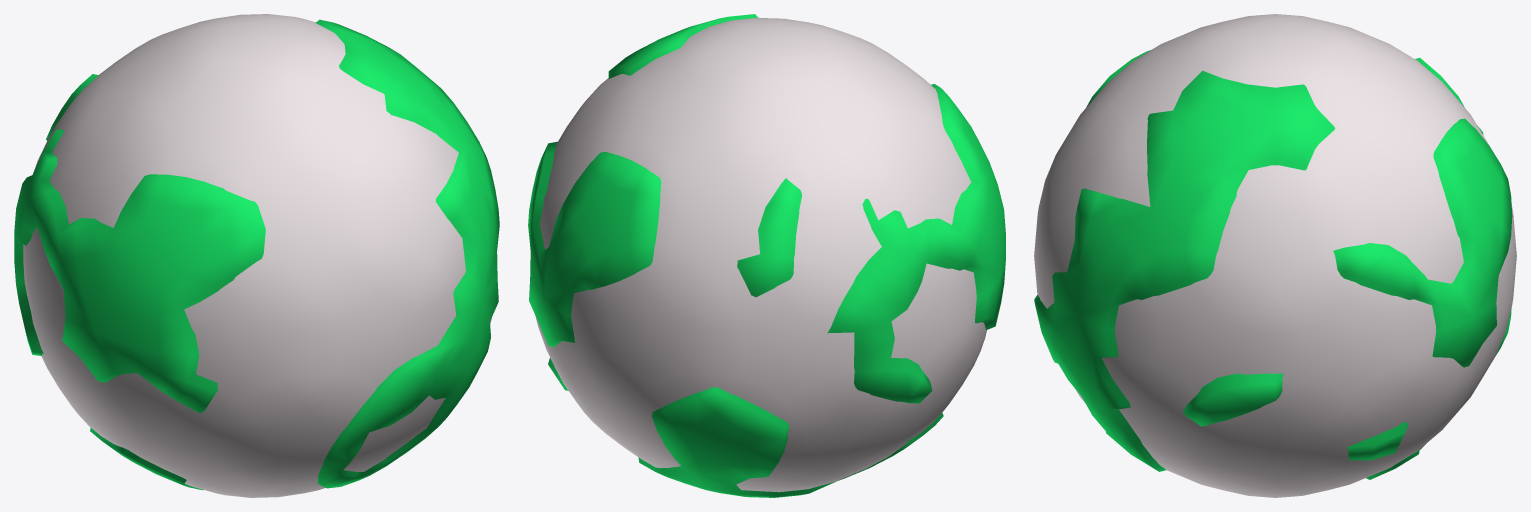
Rendered from InnerPlanet.fbx.
3 views of the same model, side by side, from view 1: azimuth 30°, elevation 25°; view 2: azimuth 150°, elevation 25°; view 3: azimuth 270°, elevation 25° (orthographic).
Parts seen in each view (by area): view 1: Icosphere.004, Icosphere.003; view 2: Icosphere.004, Icosphere.003; view 3: Icosphere.004, Icosphere.003.
Part boxes in pixels (bbox=[...]): Icosphere.004: bbox=[23, 14, 491, 497]; Icosphere.003: bbox=[14, 19, 499, 490]; Icosphere.004: bbox=[535, 18, 986, 492]; Icosphere.003: bbox=[528, 14, 1005, 497]; Icosphere.004: bbox=[1034, 14, 1516, 497]; Icosphere.003: bbox=[1034, 50, 1512, 479].
Size of the model in its own units: 360 by 360 by 356.
